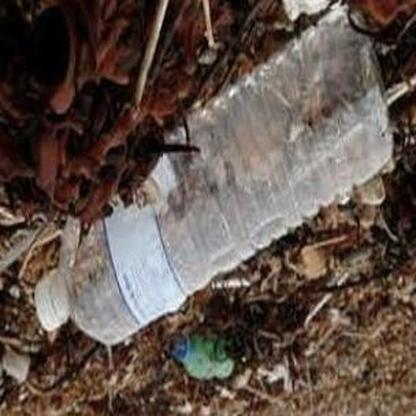plastic bottle: (34, 8, 401, 347), (167, 335, 238, 381)
